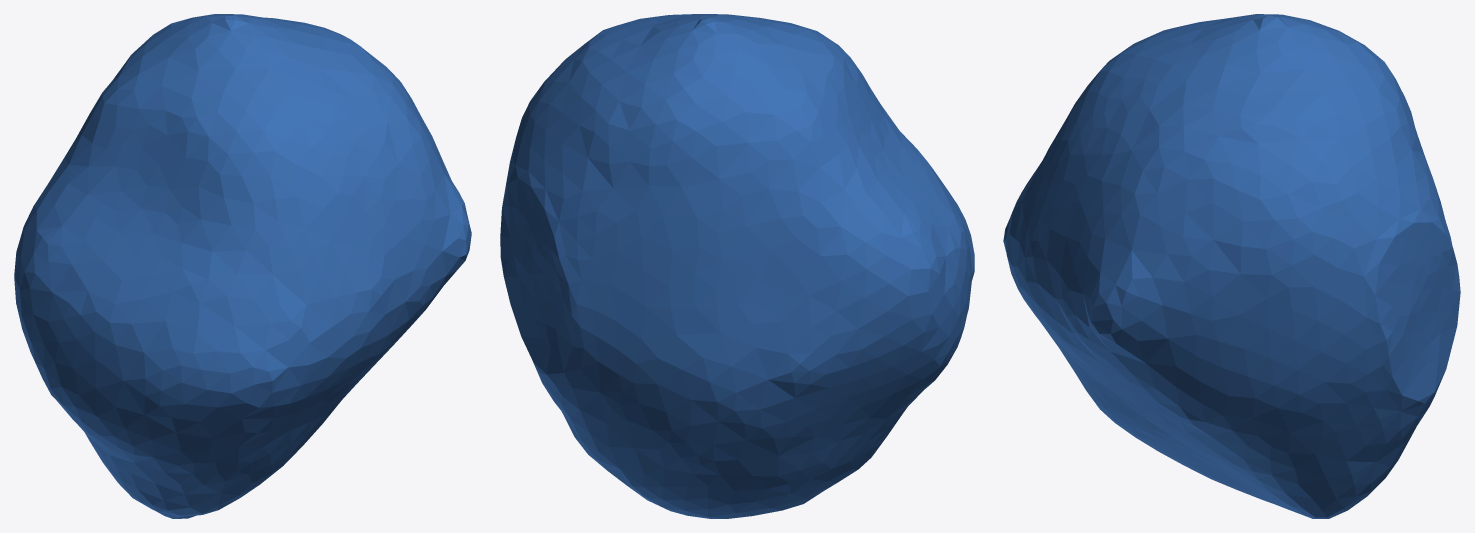
Rendered from nocodazole.glb.
3 renders of one model, left to right at view 1: azimuth 30°, elevation 25°; view 2: azimuth 150°, elevation 25°; view 3: azimuth 270°, elevation 25°, orthographic. The views are drawn at different scales.
Visible parts, largest first — view 1: mesh; view 2: mesh; view 3: mesh.
Part boxes in pixels (bbox=[...]): mesh: bbox=[14, 14, 471, 518]; mesh: bbox=[500, 14, 974, 518]; mesh: bbox=[1003, 14, 1460, 518].
Size of the model in its own units: 0.8754 by 1 by 0.8299.
